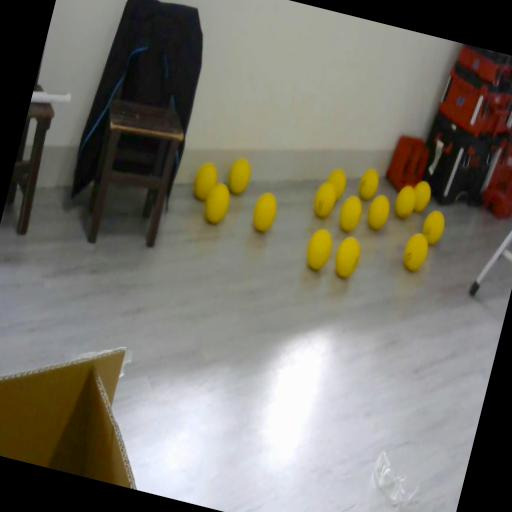FUEL: (302, 224, 337, 274), (248, 188, 282, 236), (201, 178, 234, 226), (398, 229, 432, 275), (332, 234, 364, 280), (190, 158, 222, 203), (335, 192, 365, 234), (419, 206, 449, 248), (364, 192, 394, 232), (225, 155, 254, 196), (322, 166, 349, 202), (356, 166, 382, 202), (408, 178, 434, 214)
